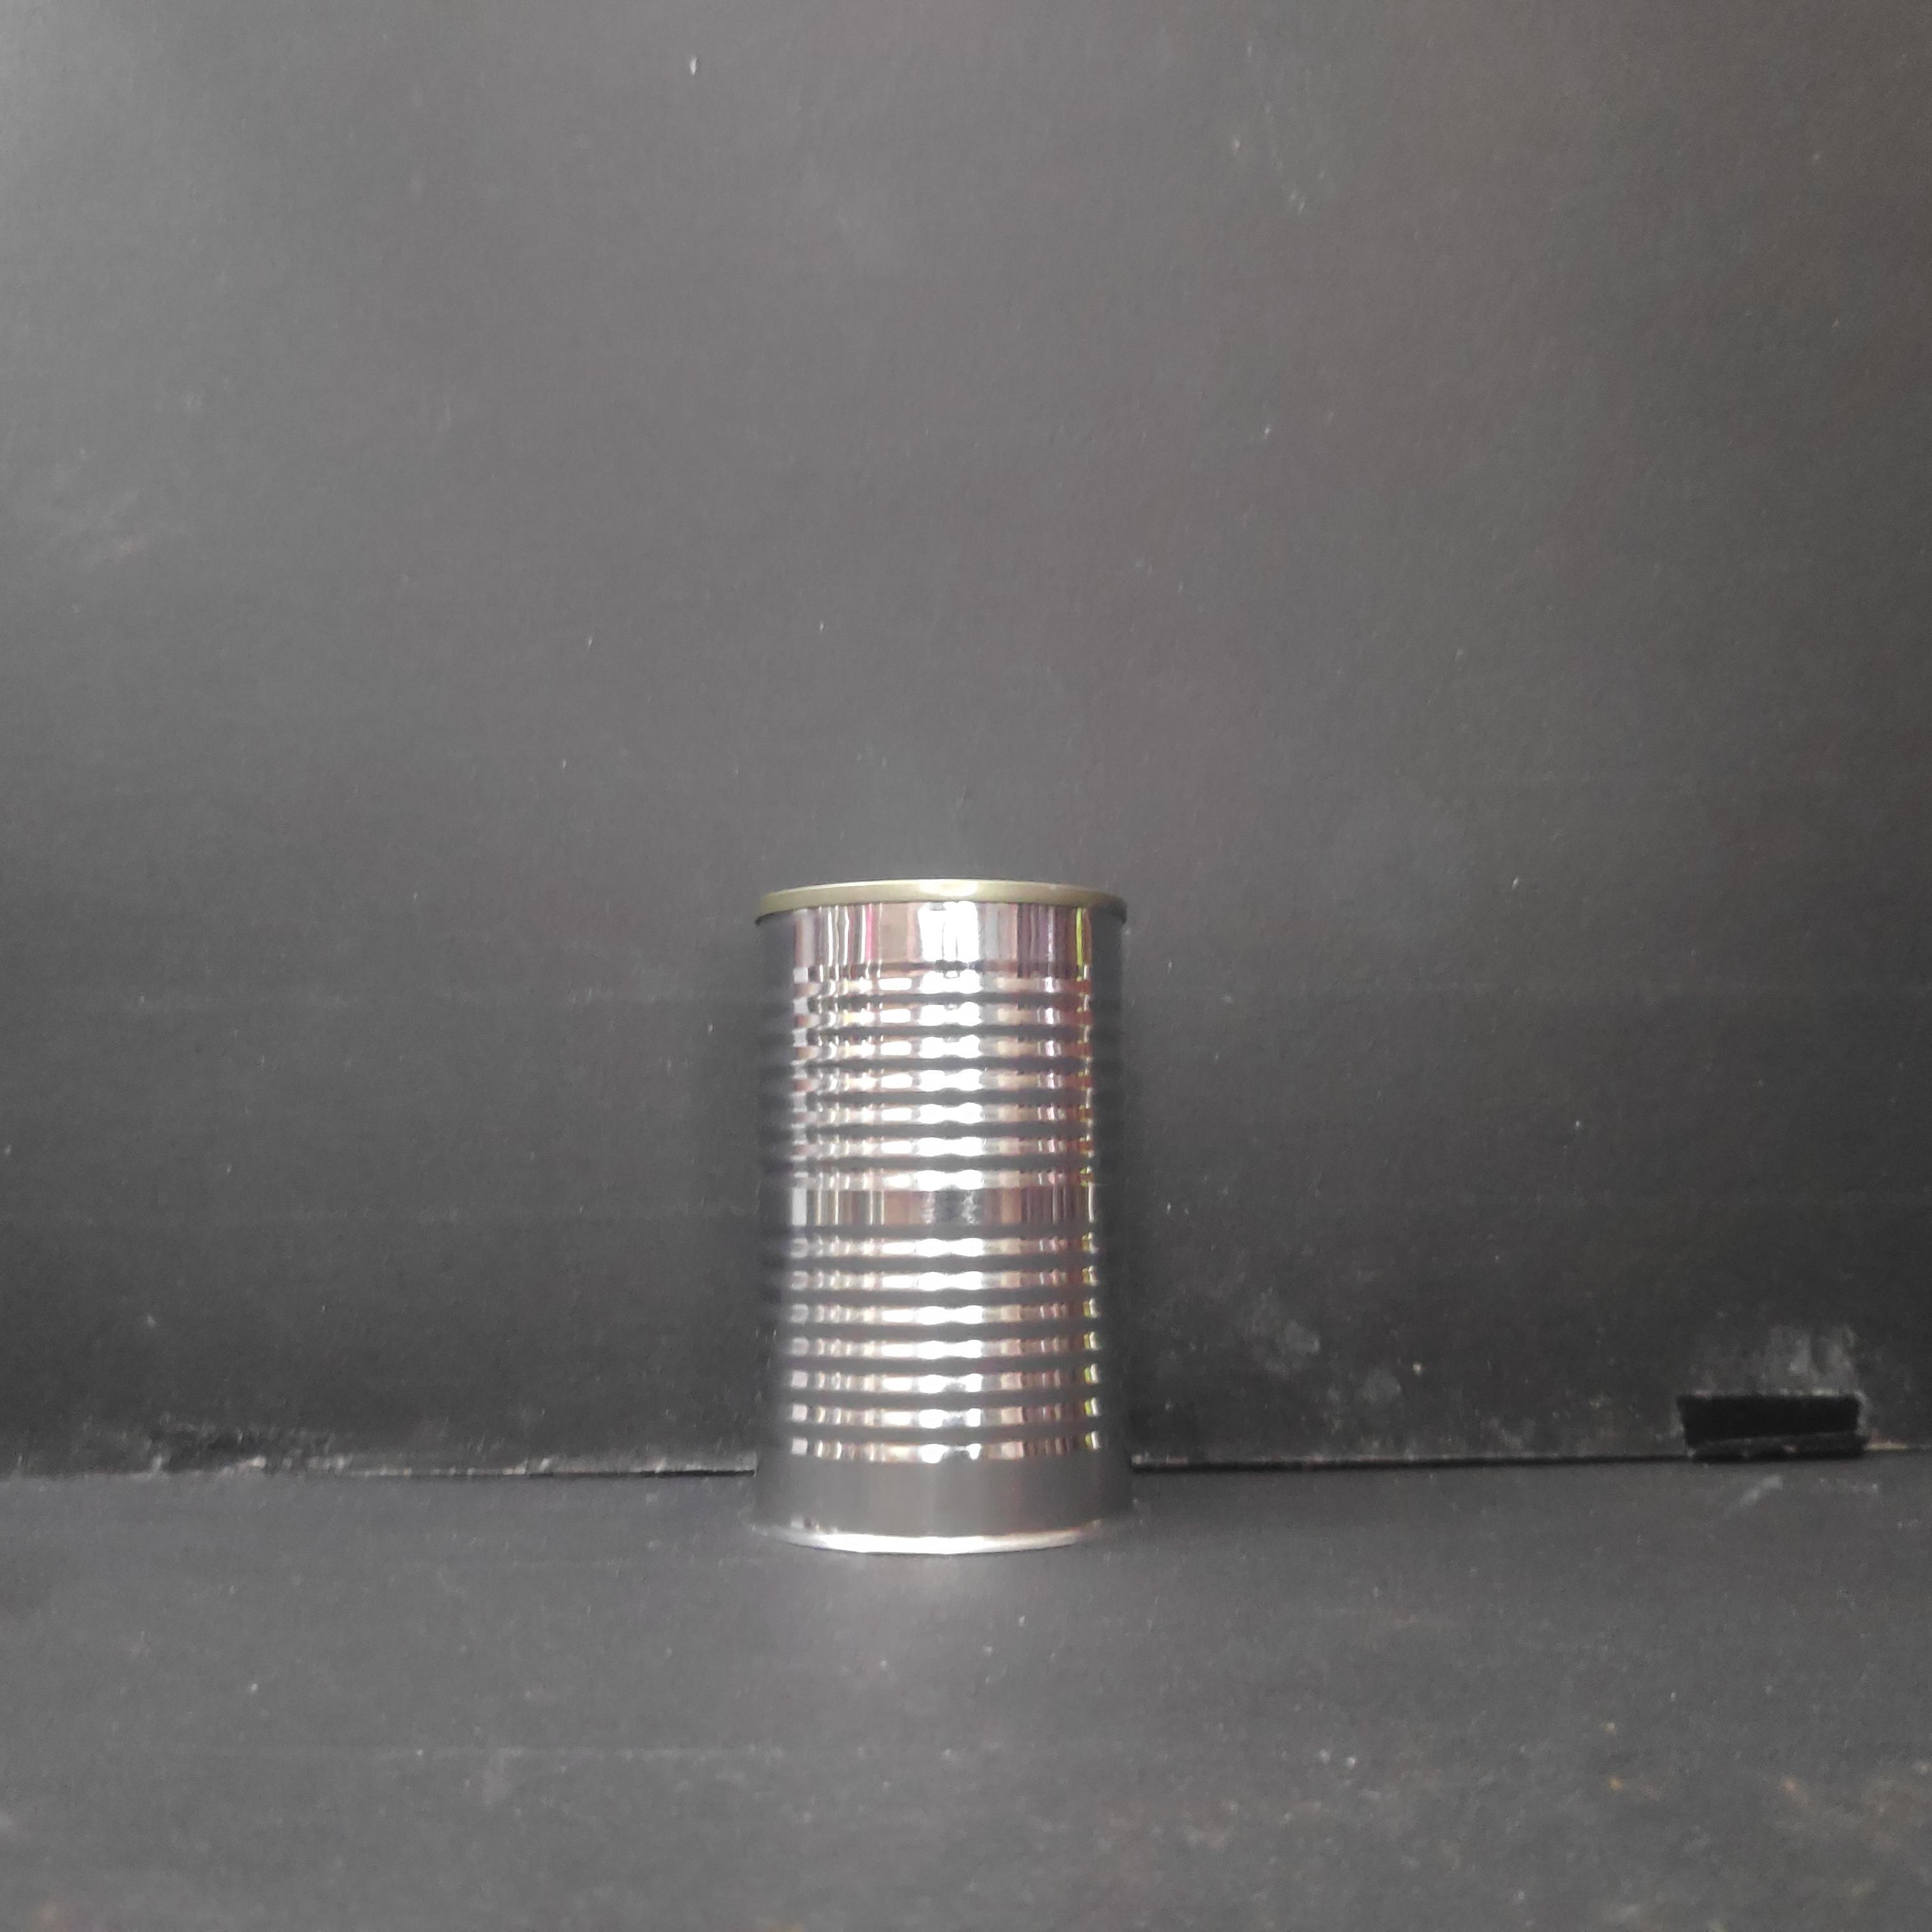No defect: (748, 879, 1150, 1562)
